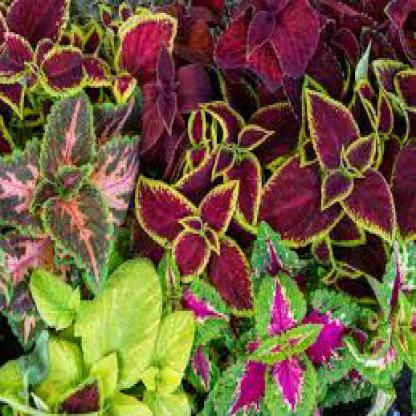Bunga Coleus: (5, 7, 408, 398)
